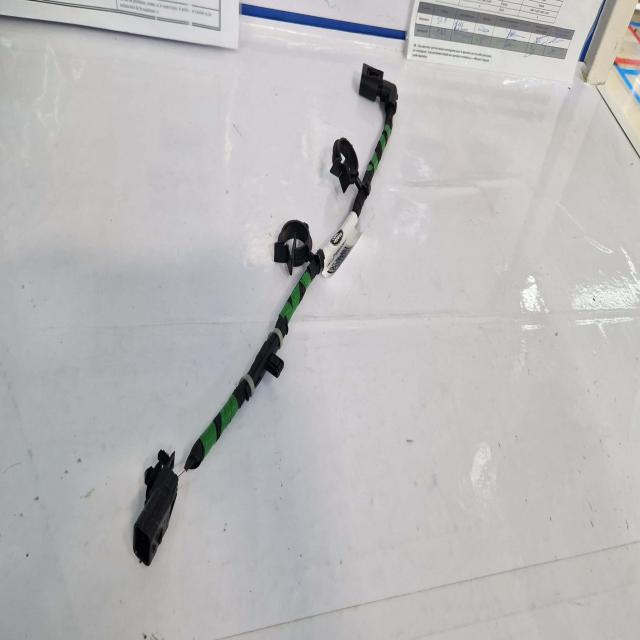AJ20_D6_Cable: (185, 64, 399, 467)
Clip: (275, 218, 314, 273), (331, 138, 361, 191), (250, 340, 284, 382), (145, 447, 175, 491)
Connector: (134, 464, 179, 562), (360, 62, 399, 124)
Info: (322, 216, 361, 275)
